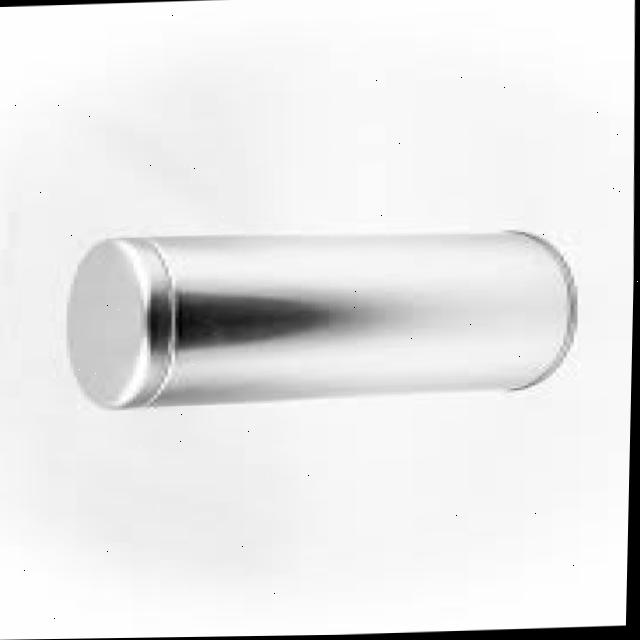Dry: (61, 219, 578, 409)
